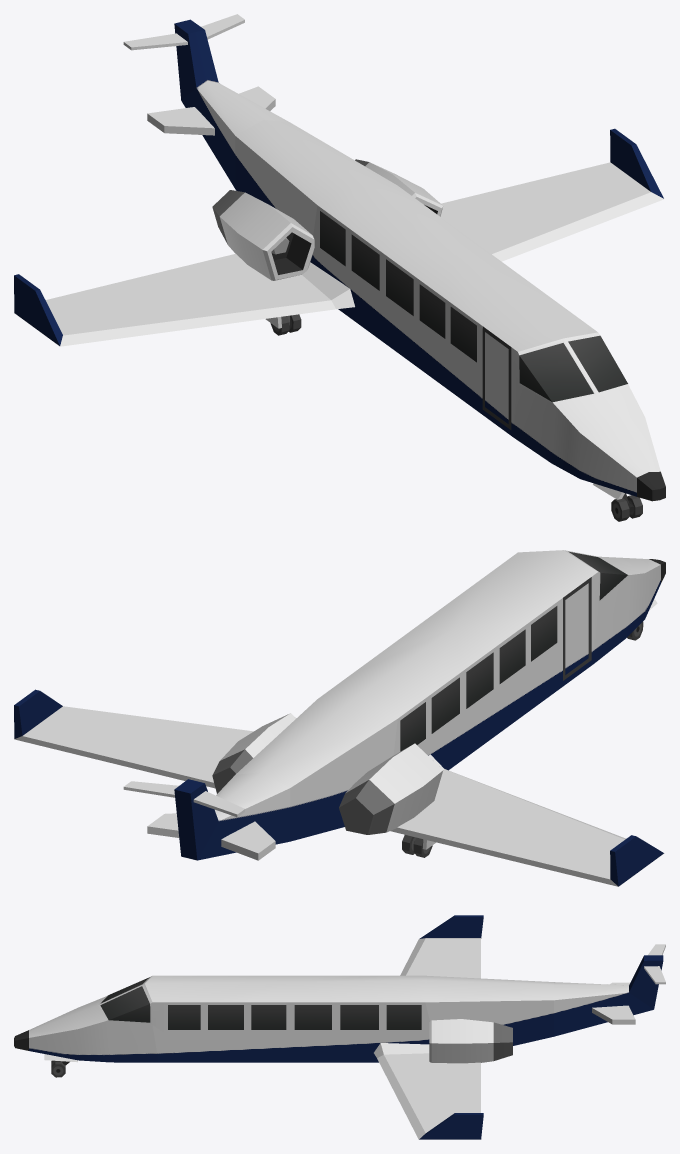
The picture shows the model from 3 angles, top to bottom: view 1: azimuth 30°, elevation 25°; view 2: azimuth 150°, elevation 25°; view 3: azimuth 270°, elevation 25°; orthographic projection. The views are drawn at different scales.
Visible parts, largest first — view 1: Plane; view 2: Plane; view 3: Plane.
Part boxes in pixels (x1,y1,x2,y2): Plane: (14,14,665,501); Plane: (14,550,665,886); Plane: (14,915,665,1139).
Bounding box in the file's own units: 997 × 269 × 1369.
